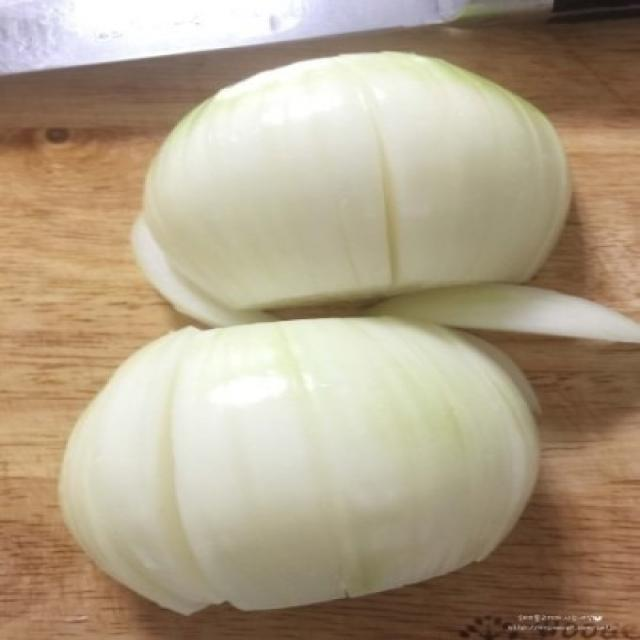onion: (57, 309, 622, 599), (106, 44, 640, 331)
